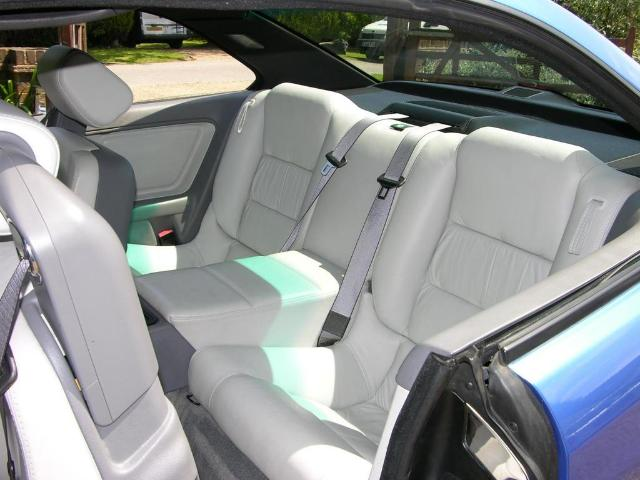Seatbelt: (319, 120, 451, 346), (278, 110, 399, 254), (1, 251, 30, 367)
